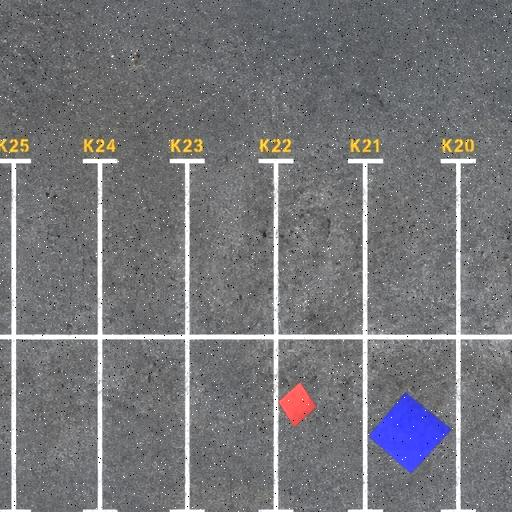BLUE_SQUARE: (368, 392, 452, 474)
RED_SQUARE: (278, 382, 318, 428)
